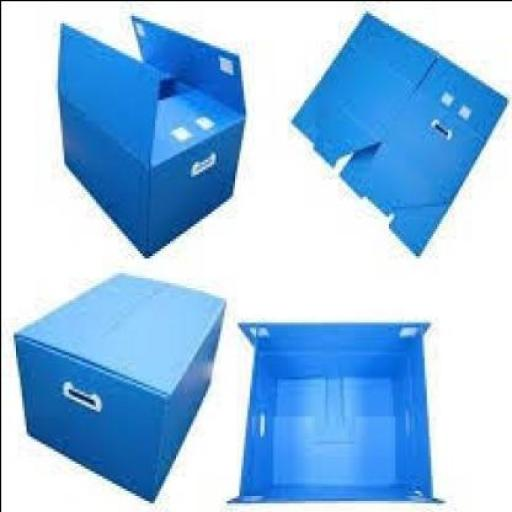cardboard: (288, 7, 506, 255), (10, 270, 226, 500), (54, 10, 243, 255), (223, 317, 445, 501)
